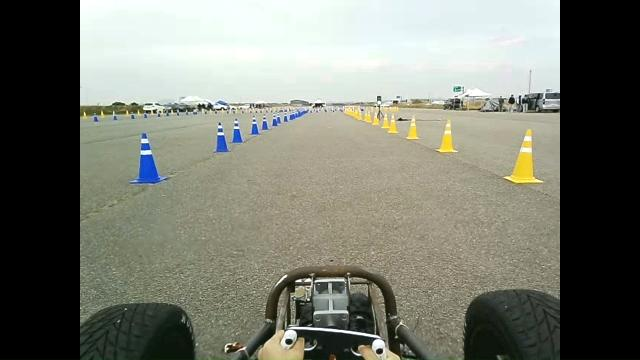blue cone: (129, 132, 168, 184), (213, 121, 230, 153), (230, 118, 245, 143), (249, 115, 260, 135), (261, 114, 269, 131), (271, 113, 278, 127), (275, 114, 282, 124), (283, 109, 288, 122), (290, 112, 296, 120)
yellow cone: (502, 128, 544, 184), (434, 118, 458, 154), (405, 115, 420, 140), (387, 112, 398, 134), (380, 112, 390, 129), (364, 107, 372, 123), (371, 113, 380, 126)
